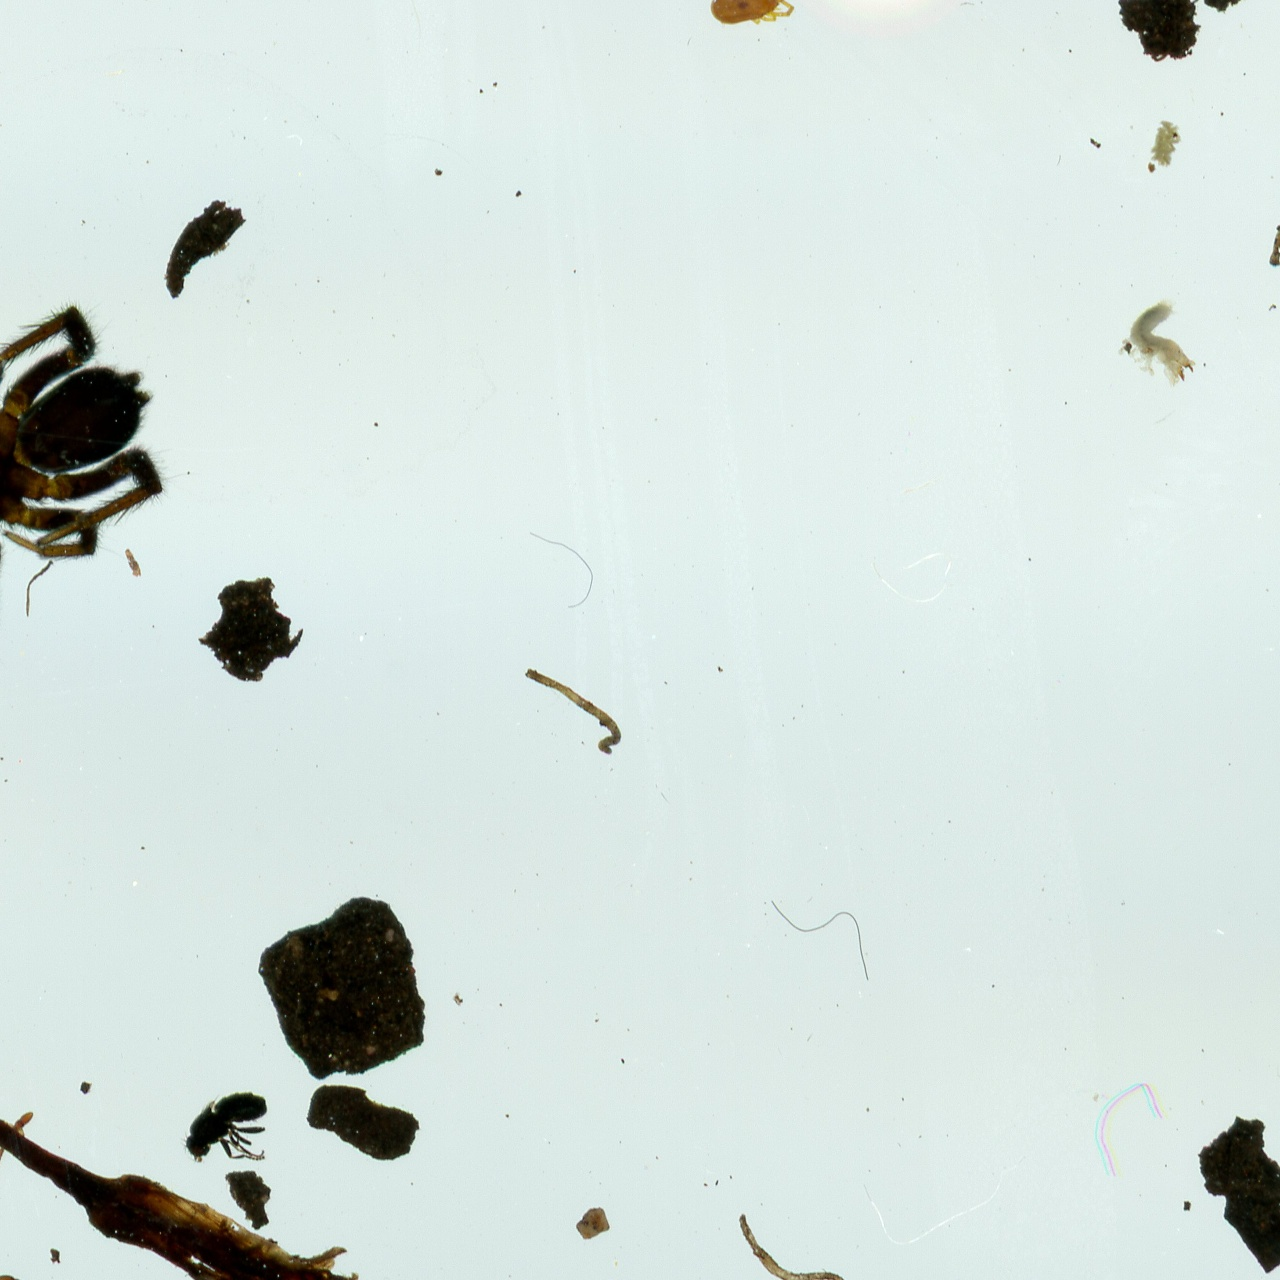arthropod: (0, 204, 252, 740), (0, 1106, 74, 1280), (176, 1084, 273, 1171), (700, 0, 798, 27)
